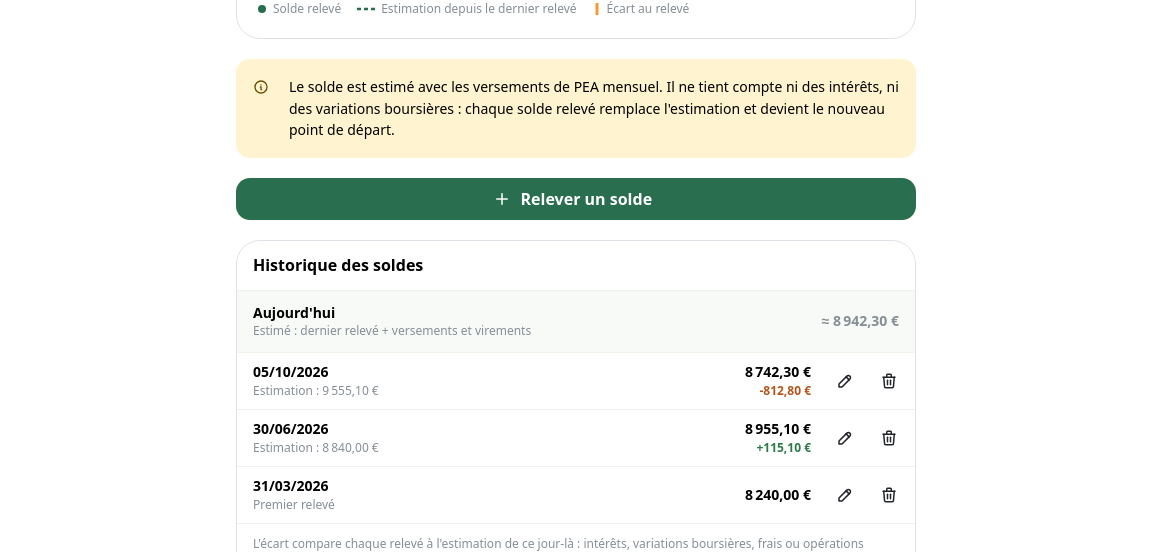
Scenario: account page › explains that a balance is already recorded on that date
(page scrolled)
Click the button "Relever un solde" at (576, 199), box [236,178,916,220]
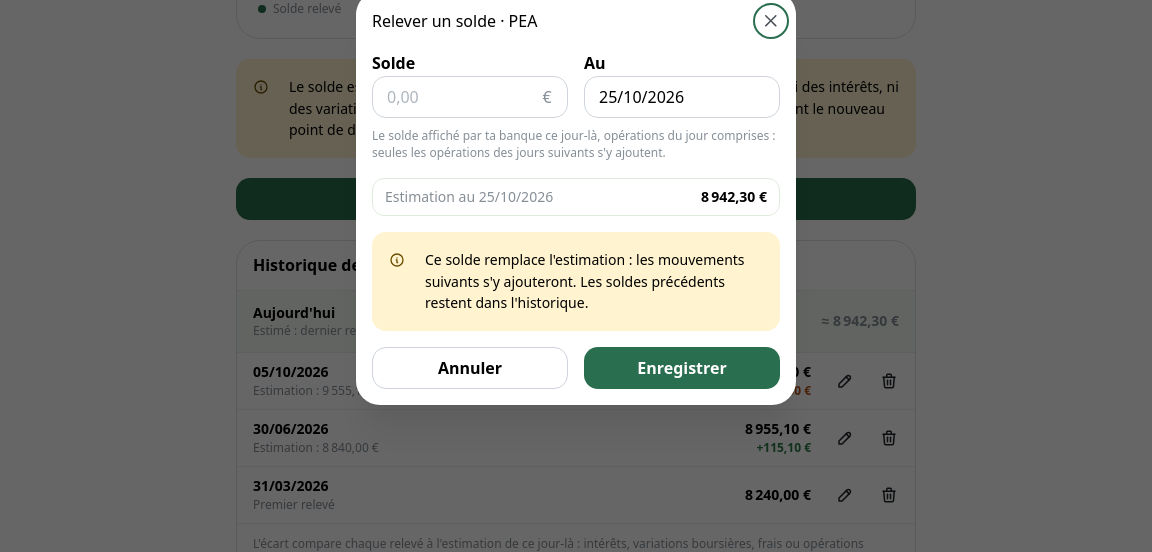
Type "10" into the field labelled "Solde" at (470, 97), box [372,76,568,118]
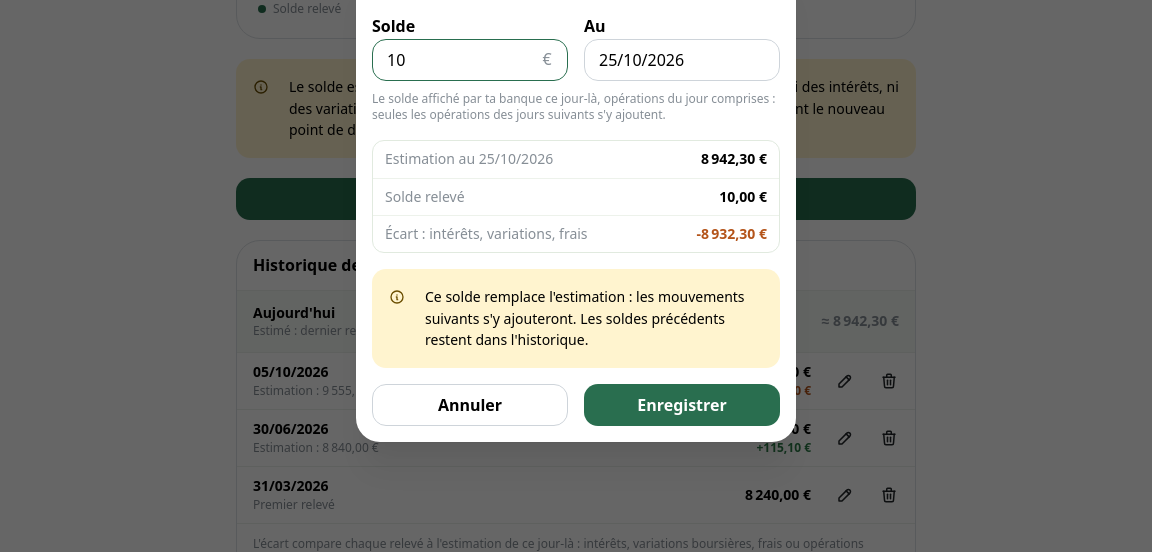
Click the button "Enregistrer" at (682, 405), box [584,384,780,426]
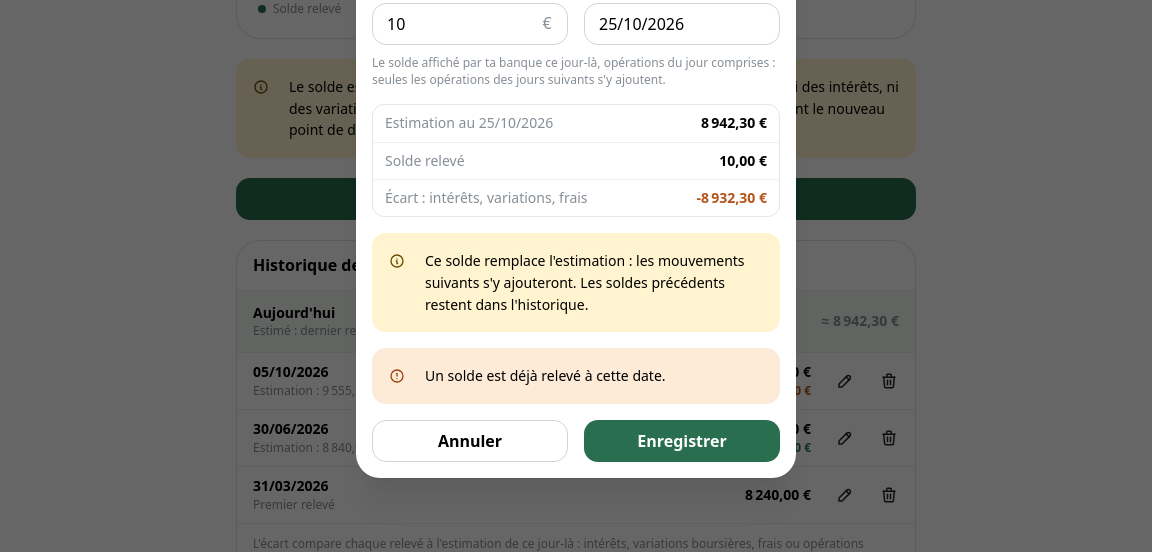
Expected: the text "Un solde est déjà relevé à cette date." is shown, [425,366,666,385]
